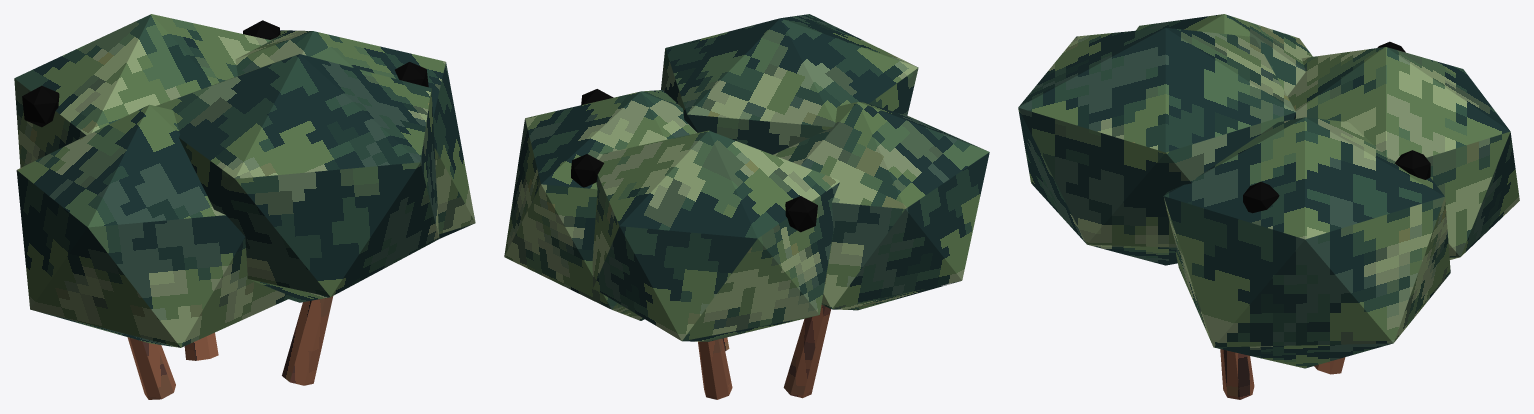
File: arbusto.fbx
The picture shows the model from 3 angles, left to right: view 1: azimuth 30°, elevation 25°; view 2: azimuth 150°, elevation 25°; view 3: azimuth 270°, elevation 25°; orthographic projection. The views are drawn at different scales.
Parts seen in each view (by area): view 1: bosque_arbusto; view 2: bosque_arbusto; view 3: bosque_arbusto.
Part boxes in pixels (<box>): bosque_arbusto: <box>14,14,475,399</box>; bosque_arbusto: <box>504,14,989,399</box>; bosque_arbusto: <box>1018,14,1519,399</box>.
Bounding box in the file's own units: 68.92 × 52.52 × 68.39.
Materials: 3 (2 with a texture image).
